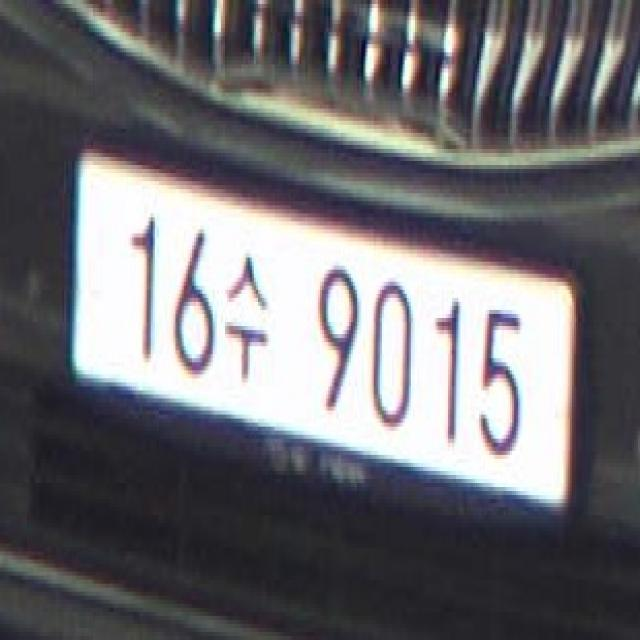0: (368, 274, 417, 438)
1: (427, 290, 469, 455), (124, 202, 163, 370)
5: (479, 302, 524, 463)
6: (167, 218, 219, 382)
9: (314, 257, 363, 418)
license_plate: (62, 137, 588, 539)
su: (223, 250, 270, 390)
